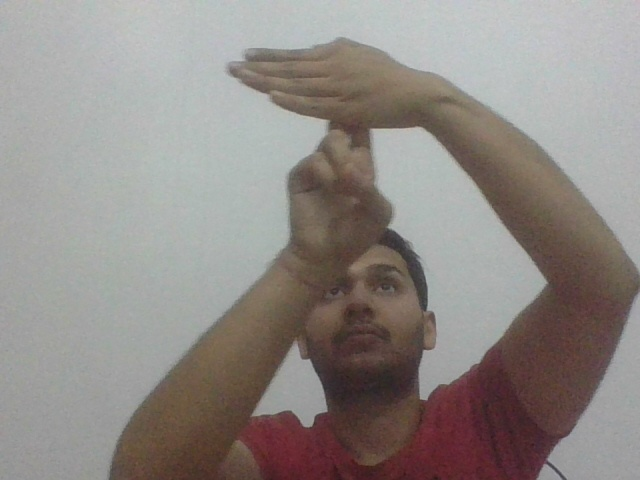N: (222, 37, 422, 151)
